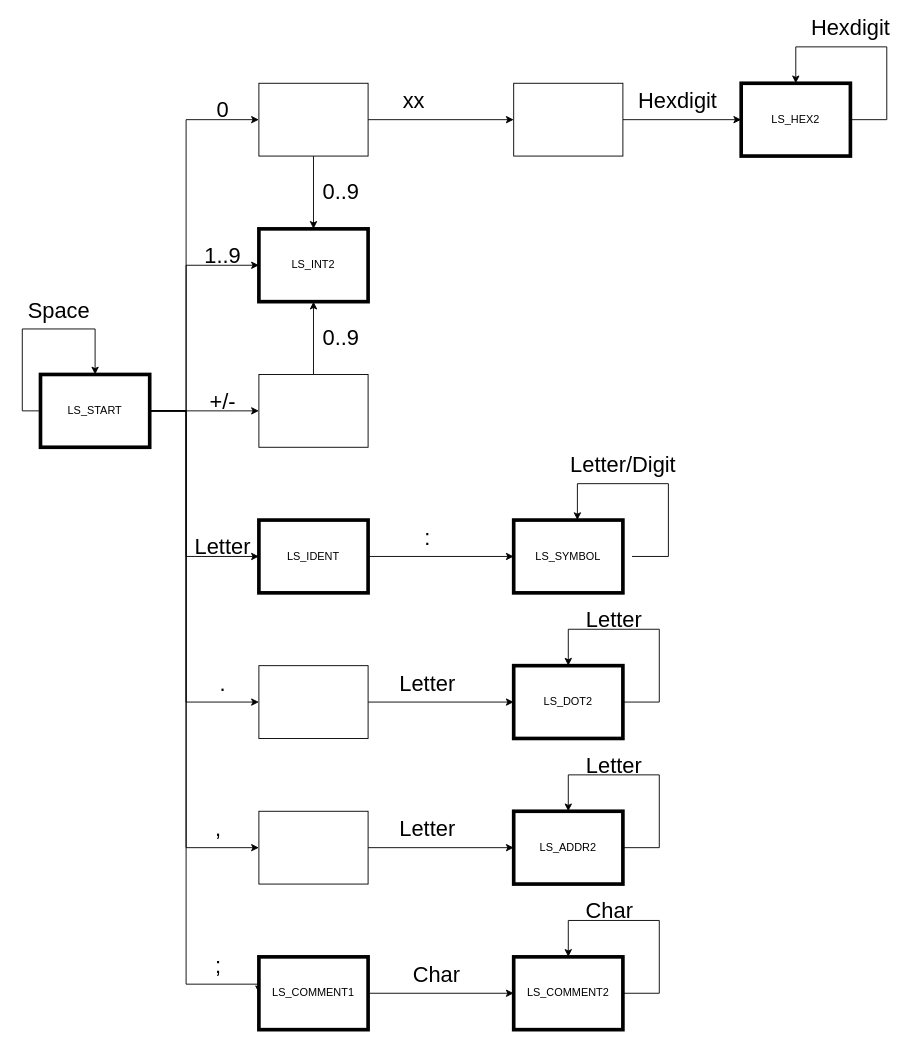
Some shapes in this 912 by 1047 pixel diagram are drawn without their labels. Here are the shapes that lost their labels. From the top down, the centre of each, then its label:
At point 313,119: "LS_INT1".
At point 568,119: "LS_HEX1".
At point 313,410: "LS_SIGN".
At point 313,701: "LS_DOT1".
At point 313,847: "LS_ADDR1".
